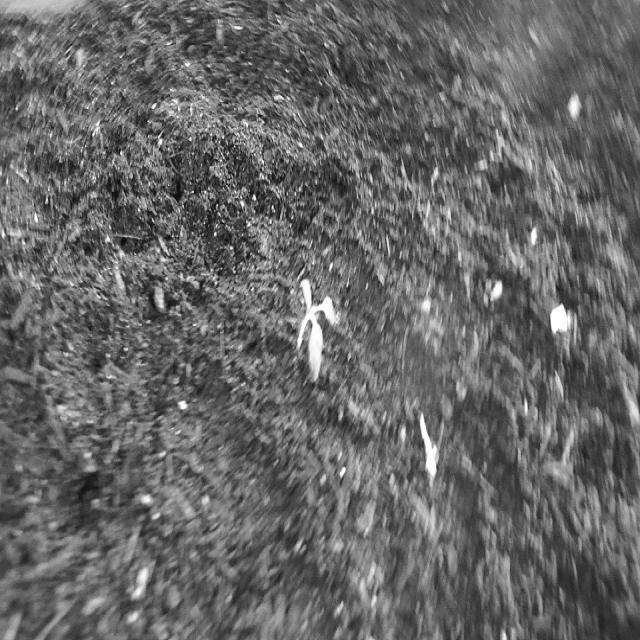Healthy: (284, 259, 348, 403)
